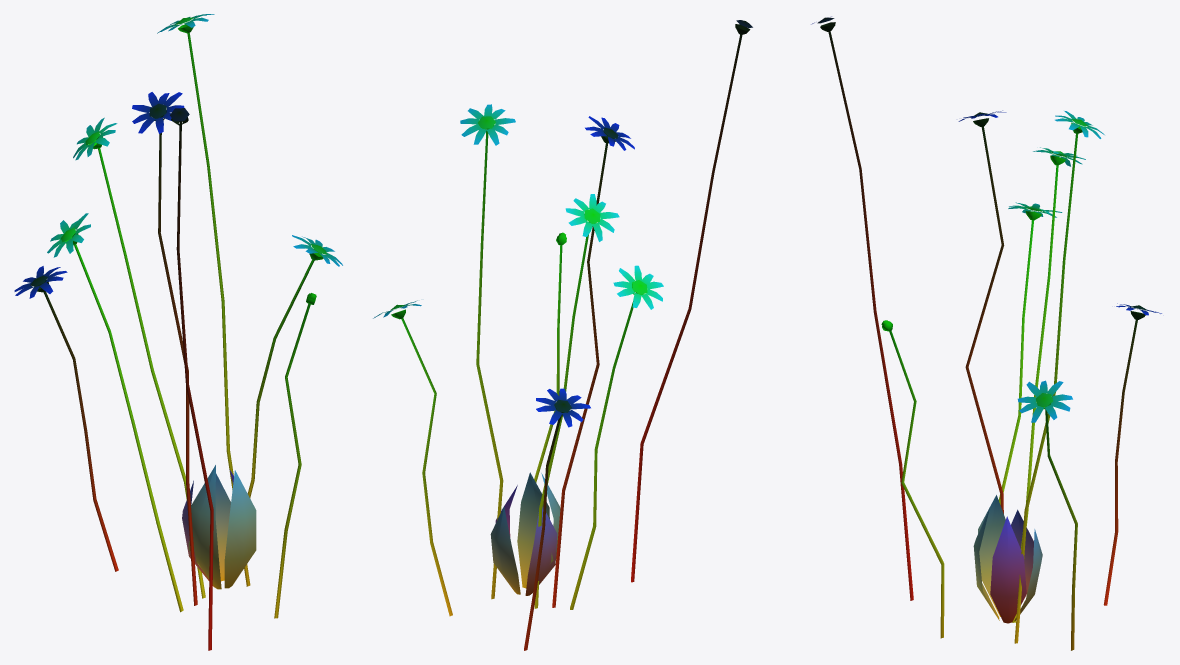
File: SM_Flower_Daisy_A_LOD2.fbx
The picture shows the model from 3 angles, left to right: view 1: azimuth 30°, elevation 25°; view 2: azimuth 150°, elevation 25°; view 3: azimuth 270°, elevation 25°; orthographic projection. The views are drawn at different scales.
Parts seen in each view (by area): view 1: SM_Flower_Daisy_A_LOD2; view 2: SM_Flower_Daisy_A_LOD2; view 3: SM_Flower_Daisy_A_LOD2.
Boxes of the visible parts, <box> form: SM_Flower_Daisy_A_LOD2: <box>14,14,342,650</box>; SM_Flower_Daisy_A_LOD2: <box>373,20,752,650</box>; SM_Flower_Daisy_A_LOD2: <box>811,16,1161,650</box>.
Bounding box in the file's own units: 0.3111 × 0.5855 × 0.3532.
